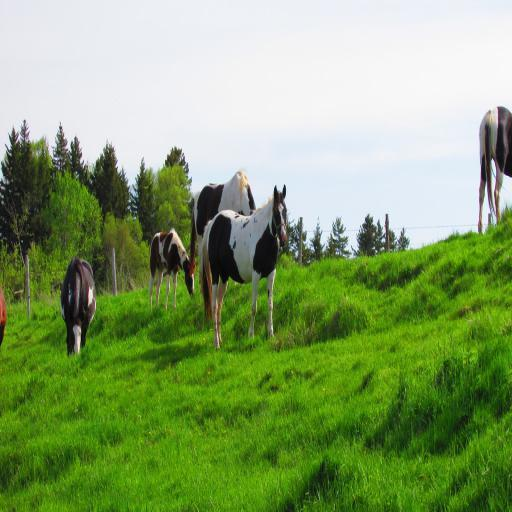horse: (199, 180, 289, 350), (192, 165, 256, 311), (478, 104, 512, 232), (57, 252, 99, 354), (148, 224, 194, 311), (0, 284, 9, 343)
